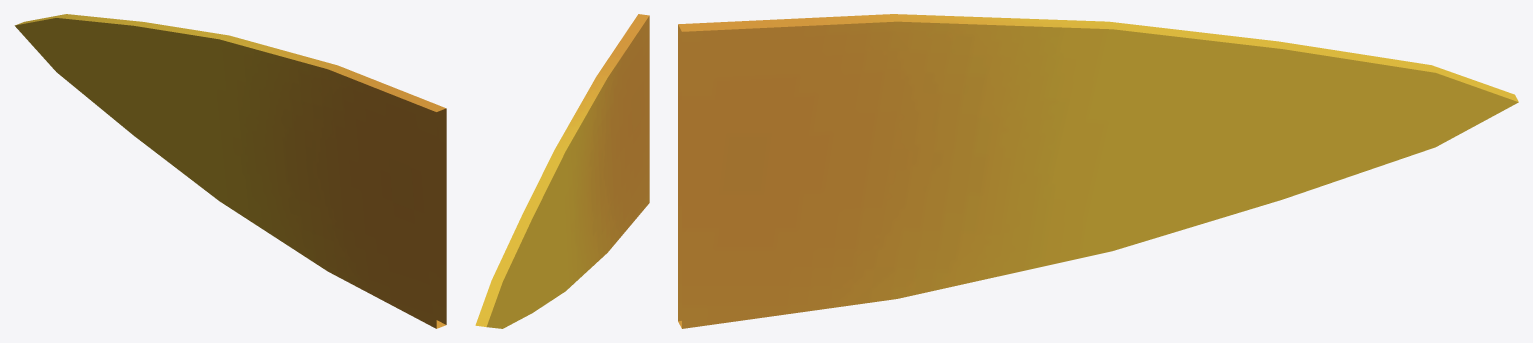
The model's file is TrackBannerFlag.fbx.
3 renders of one model, left to right at view 1: azimuth 30°, elevation 25°; view 2: azimuth 150°, elevation 25°; view 3: azimuth 270°, elevation 25°, orthographic. The views are drawn at different scales.
Visible parts, largest first — view 1: TrackBannerFlag; view 2: TrackBannerFlag; view 3: TrackBannerFlag.
Boxes of the visible parts, x1=… form: TrackBannerFlag: x1=14, y1=14, x2=446, y2=328; TrackBannerFlag: x1=475, y1=14, x2=649, y2=328; TrackBannerFlag: x1=678, y1=14, x2=1518, y2=328.
Size of the model in its own units: 23 by 37.17 by 95.33.
